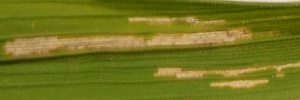RiceBacterialBlight: (2, 15, 257, 59), (156, 62, 300, 91)
